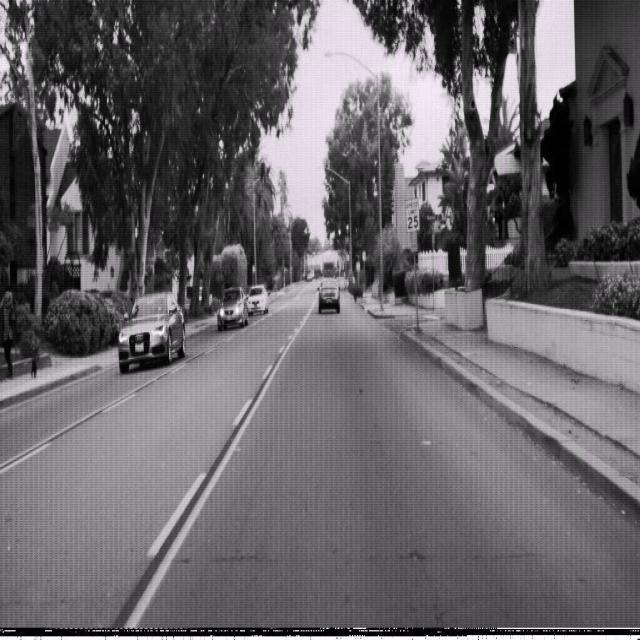speedLimit25: (404, 196, 420, 233)
